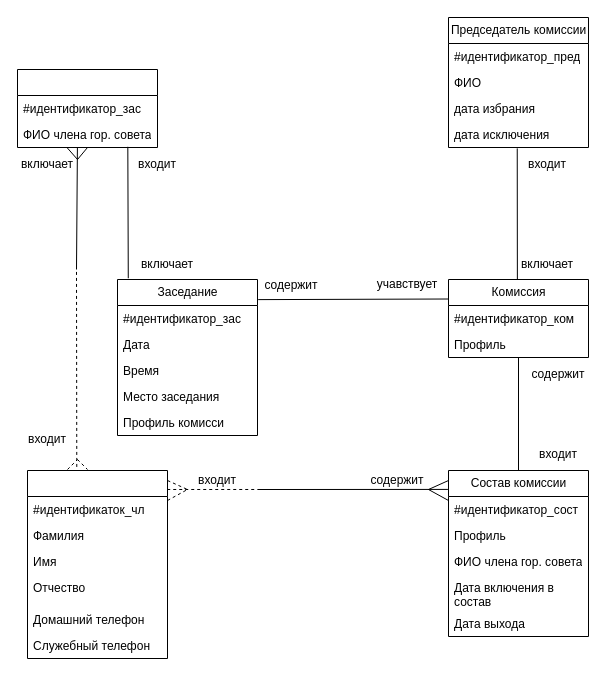
Image size: 606x679. Some labels were removed from this diagram. Each missing label, with the box of its shape:
Состав заседания: (16, 68, 158, 148)
Член гор. совета: (26, 470, 168, 658)
